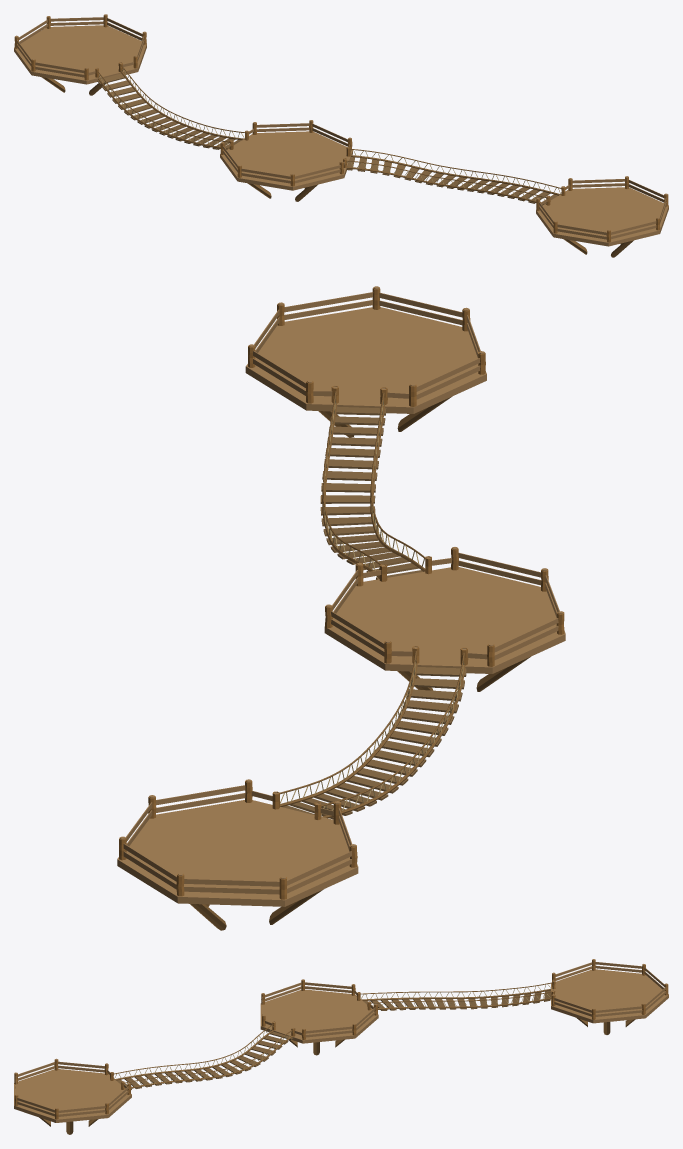
File: LV2TreeCondor.glb
3 views of the same model, one above another, from view 1: azimuth 30°, elevation 25°; view 2: azimuth 150°, elevation 25°; view 3: azimuth 270°, elevation 25° (orthographic). The views are drawn at different scales.
Parts seen in each view (by area): view 1: Base.002, Base, Base.001, Bridge.001, Bridge, Fence.002, Fence.001, Fence; view 2: Base, Base.001, Base.002, Bridge, Bridge.001, Fence, Fence.002, Fence.001; view 3: Base.001, Base, Base.002, Bridge.001, Bridge, Fence, Fence.002, Fence.001.
Part boxes in pixels (bbox=[...]): Base.002: bbox=[14, 25, 146, 84]; Base: bbox=[536, 187, 668, 246]; Base.001: bbox=[220, 131, 352, 190]; Bridge.001: bbox=[346, 148, 561, 205]; Bridge: bbox=[97, 64, 244, 149]; Fence.002: bbox=[536, 176, 668, 242]; Fence.001: bbox=[220, 120, 352, 186]; Fence: bbox=[14, 14, 146, 80]; Base: bbox=[245, 307, 486, 413]; Base.001: bbox=[324, 567, 565, 673]; Base.002: bbox=[117, 800, 358, 906]; Bridge: bbox=[279, 651, 466, 819]; Bridge.001: bbox=[320, 391, 425, 579]; Fence: bbox=[119, 779, 357, 899]; Fence.002: bbox=[248, 286, 485, 406]; Fence.001: bbox=[325, 547, 564, 666]; Base.001: bbox=[260, 989, 378, 1043]; Base: bbox=[14, 1069, 131, 1122]; Base.002: bbox=[551, 969, 668, 1023]; Bridge.001: bbox=[114, 1024, 293, 1089]; Bridge: bbox=[360, 982, 552, 1010]; Fence: bbox=[551, 959, 668, 1019]; Fence.002: bbox=[14, 1058, 130, 1119]; Fence.001: bbox=[261, 979, 377, 1039].
Bounding box in the file's own units: 18.91 × 2.53 × 34.71.
